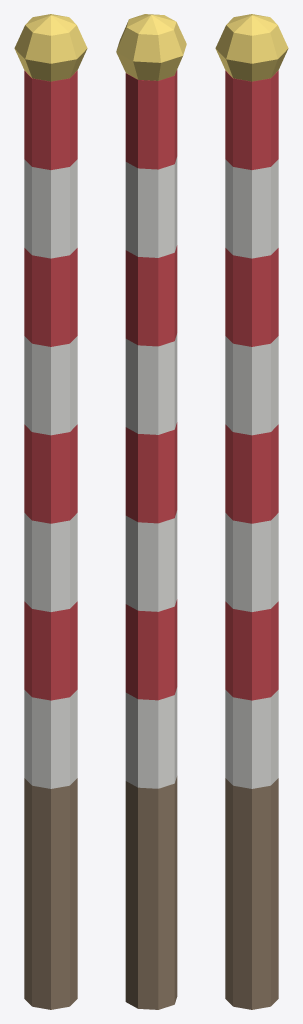
File: VN_PaloRayas.fbx
3 views of the same model, side by side, from view 1: azimuth 90°, elevation 25°; view 2: azimuth 150°, elevation 25°; view 3: azimuth 270°, elevation 25° (orthographic).
Parts seen in each view (by area): view 1: VN_PaloRayas; view 2: VN_PaloRayas; view 3: VN_PaloRayas.
Part boxes in pixels (x1=…): VN_PaloRayas: x1=14, y1=14, x2=87, y2=1009; VN_PaloRayas: x1=116, y1=14, x2=186, y2=1009; VN_PaloRayas: x1=215, y1=14, x2=288, y2=1009.
Bounding box in the file's own units: 0.3 × 4.45 × 0.3.
